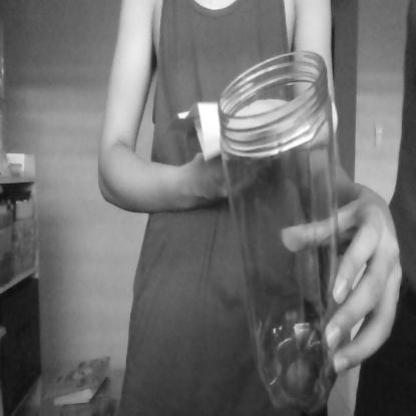Plastic Bottle: (220, 45, 346, 416)
